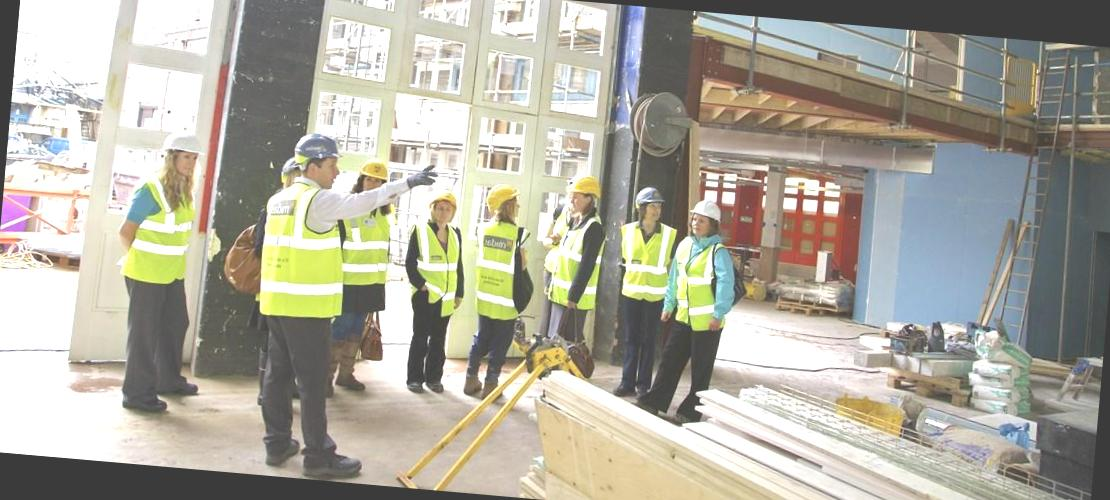helmet: (289, 126, 351, 186), (155, 128, 208, 176), (480, 183, 524, 222), (684, 194, 726, 233), (563, 174, 604, 212), (423, 186, 459, 222), (634, 182, 668, 218), (355, 161, 396, 190)
person: (238, 126, 366, 482), (96, 121, 212, 426), (320, 154, 408, 407), (650, 188, 733, 430), (452, 176, 536, 408), (602, 180, 687, 406), (528, 168, 611, 384), (392, 186, 473, 399)
